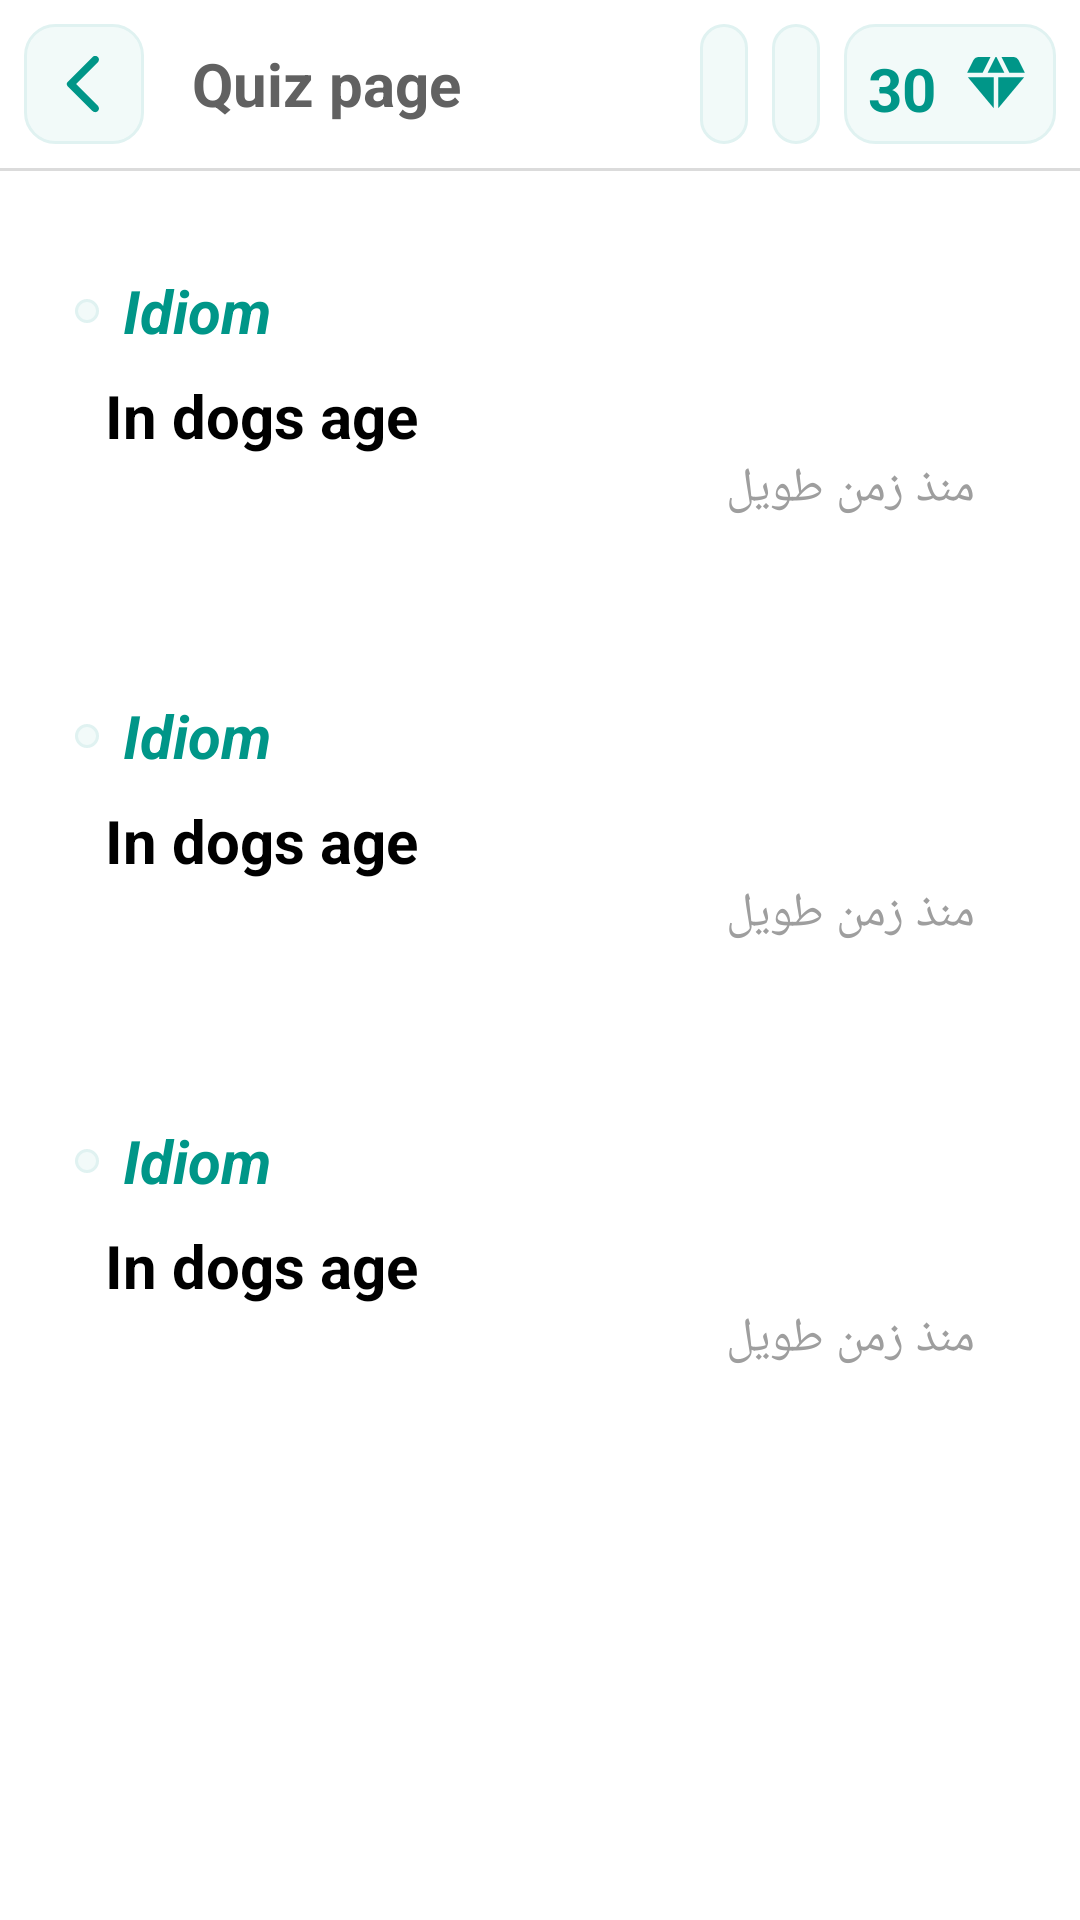

Locate icon controls on the screen. Image size 1080 x 1920, boxes as (x1, y1, x2, y2).
back: (24, 24, 144, 144)
